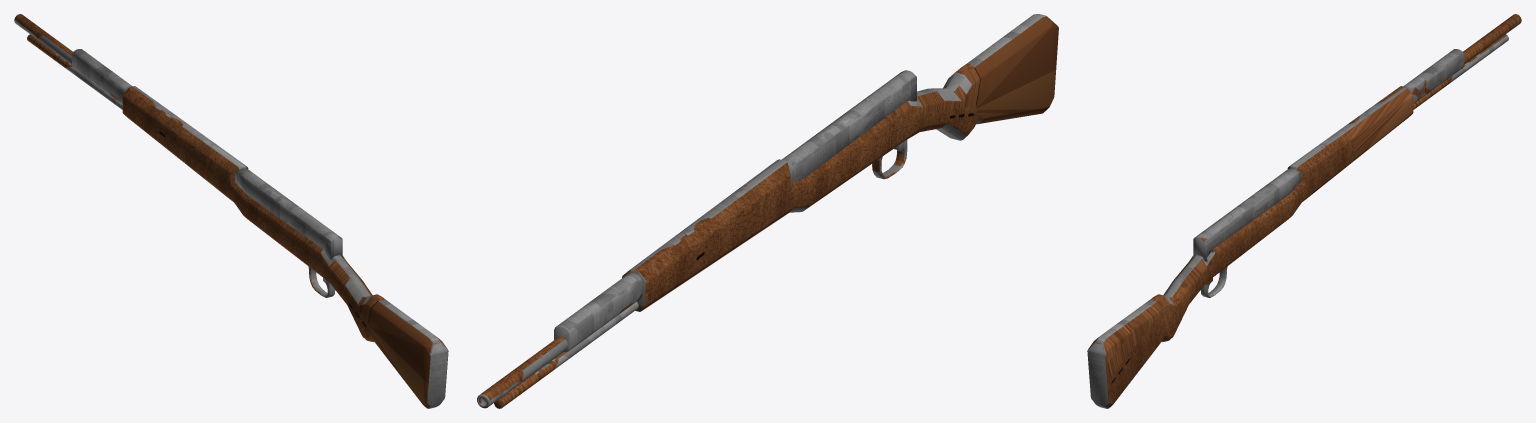
File: rifle.fbx
3 views of the same model, side by side, from view 1: azimuth 30°, elevation 25°; view 2: azimuth 150°, elevation 25°; view 3: azimuth 330°, elevation 25° (orthographic). The views are drawn at different scales.
Visible parts, largest first — view 1: rifle.001; view 2: rifle.001; view 3: rifle.001.
Boxes of the visible parts, x1=… form: rifle.001: x1=14, y1=14, x2=448, y2=408; rifle.001: x1=477, y1=14, x2=1058, y2=408; rifle.001: x1=1087, y1=14, x2=1521, y2=408.
Size of the model in its own units: 3 by 15.68 by 116.
